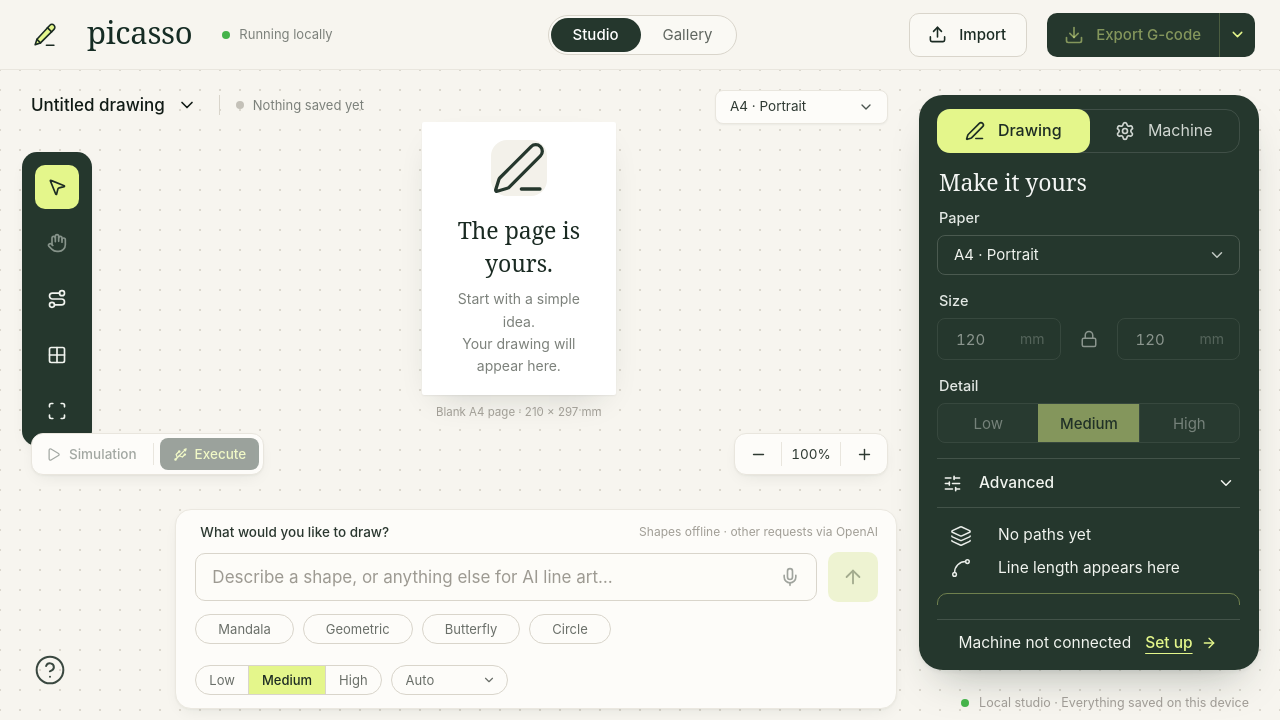
Test: offline drawing studio › routes to AI when configured and reports traced AI line art
Expected: the text "Shapes offline · other requests via OpenAI" is shown, [639,523,878,541]
Select "AI image" in the dropdown named "Drawing engine" below "What would you like to draw?": (449, 680) [392,666,507,694]
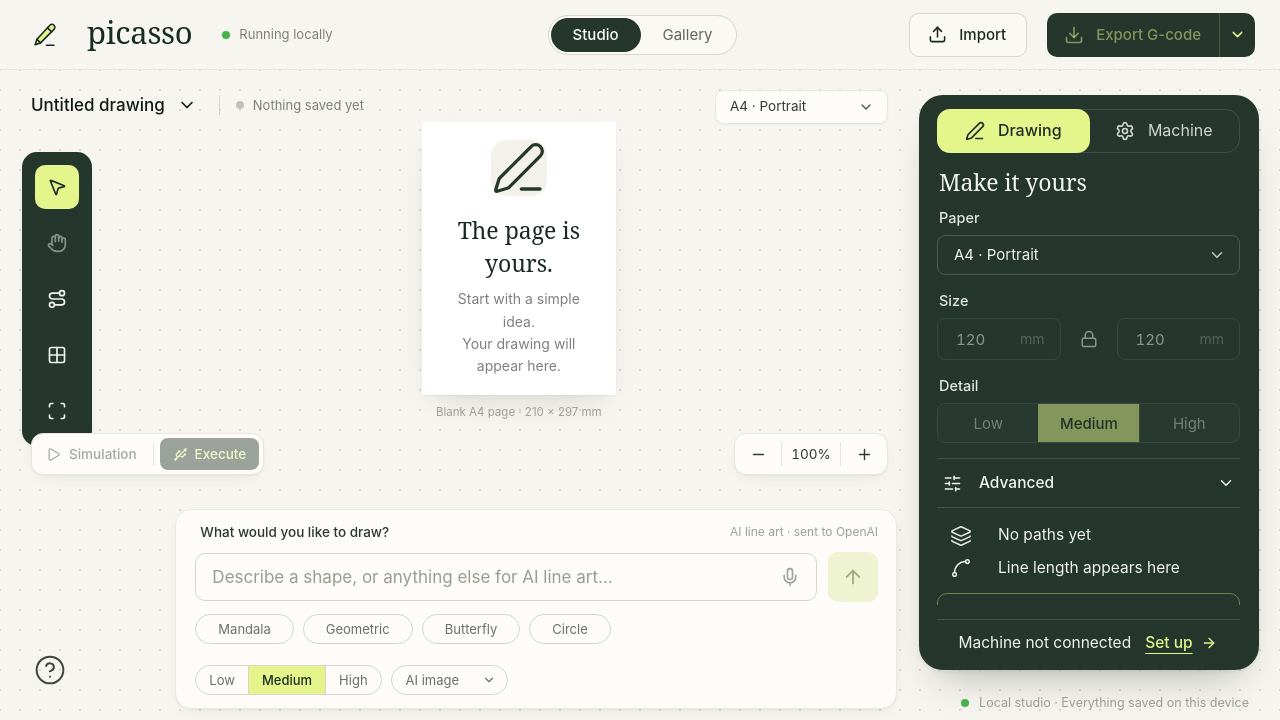
In the text box named "Drawing command": (492, 577) [212,554,772,600], type "Draw a cat on a skateboard"
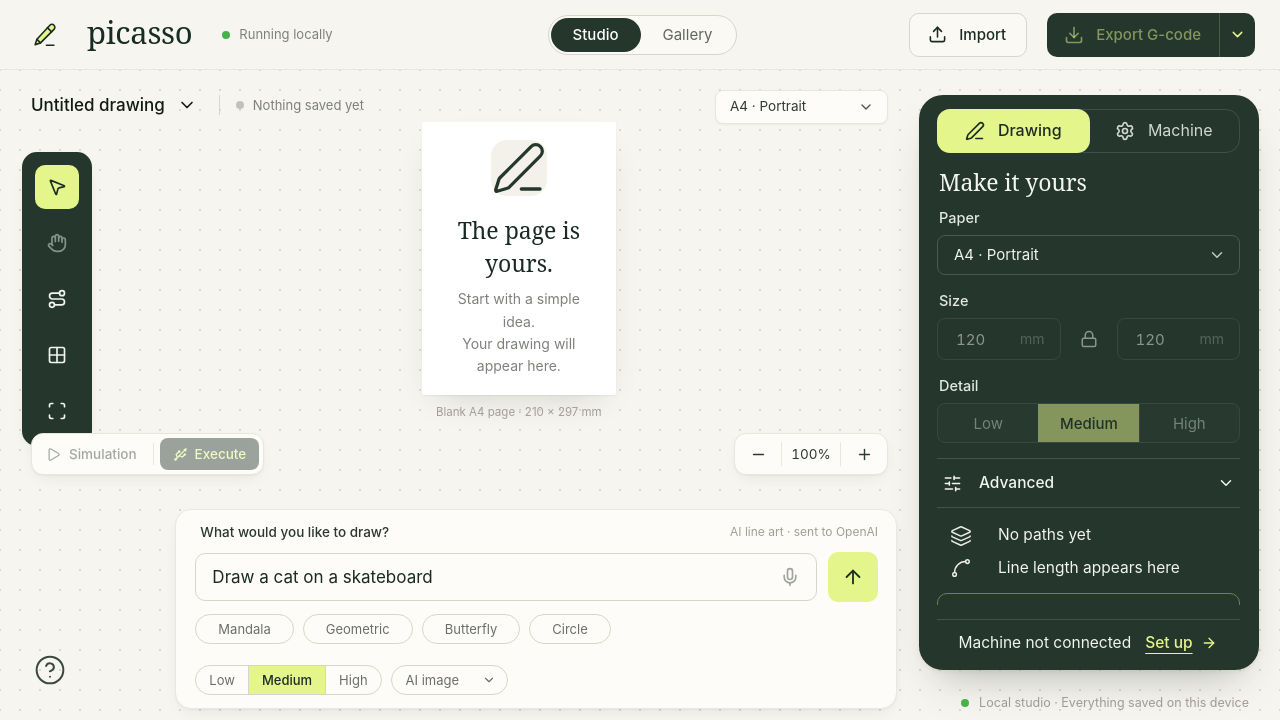
Press Enter in the text box named "Drawing command", box [212,554,772,600]
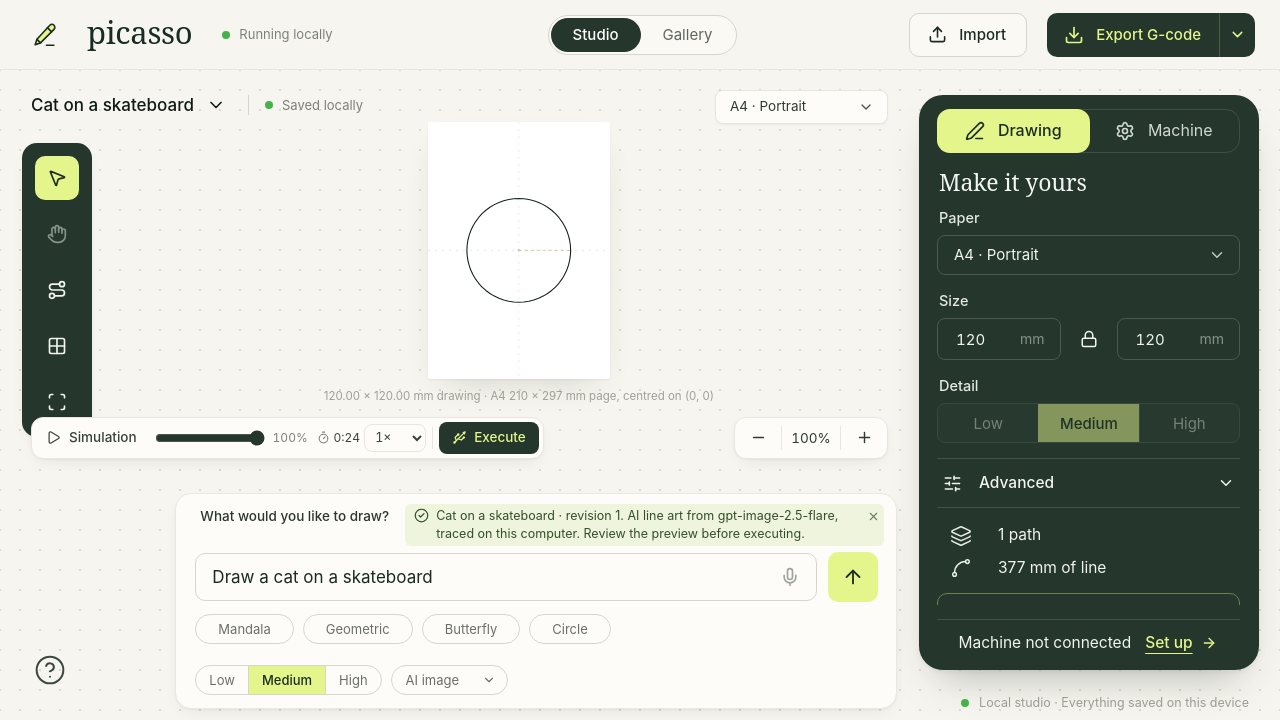
Expected: the text "AI line art from gpt-image-2.5-flare, traced on this computer" is shown, [436,508,838,541]
